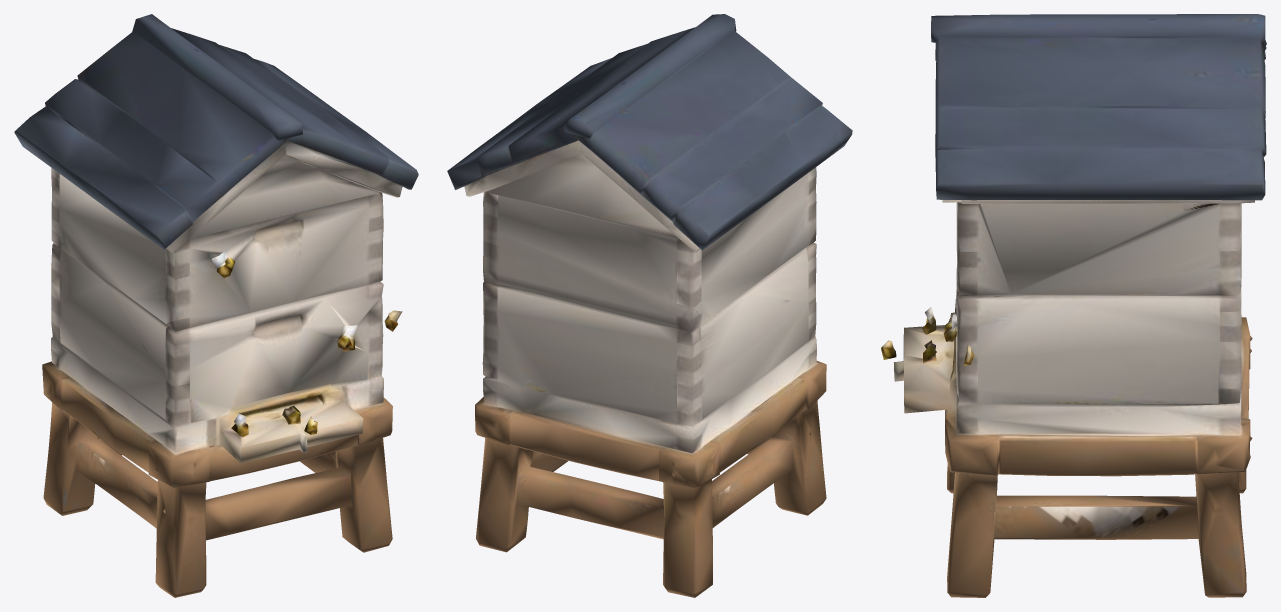
Rendered from beehive.glb.
The picture shows the model from 3 angles, left to right: view 1: azimuth 30°, elevation 25°; view 2: azimuth 150°, elevation 25°; view 3: azimuth 270°, elevation 25°; orthographic projection. The views are drawn at different scales.
Parts seen in each view (by area): view 1: model; view 2: model; view 3: model.
Part boxes in pixels (left/top/right/bottom): model: left=14, top=14, right=418, bottom=597; model: left=447, top=14, right=852, bottom=597; model: left=881, top=14, right=1266, bottom=597.
Size of the model in its own units: 1.13 by 1.89 by 1.27.
Materials: 1 (1 with a texture image).
